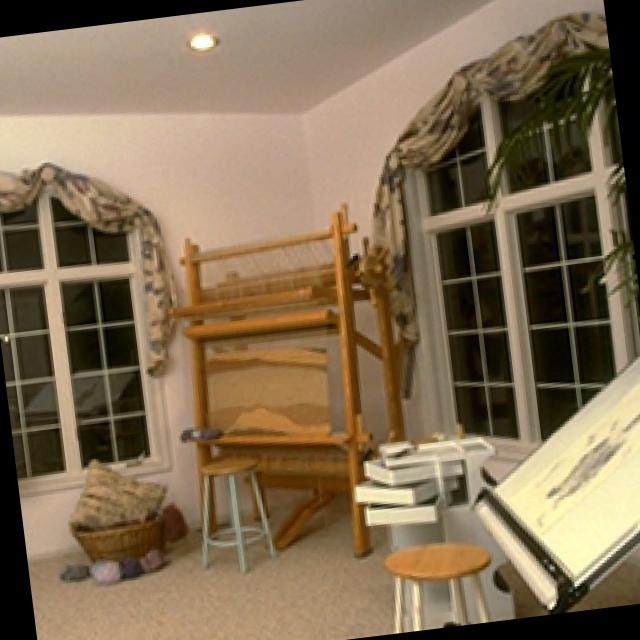2001: (407, 42, 640, 459), (0, 183, 151, 478)
bascket: (68, 514, 157, 569)
boxs: (353, 437, 487, 521)
curtain crop: (366, 9, 606, 394), (0, 160, 171, 374)
cushion occluded: (63, 454, 164, 526)
floor -X: (30, 490, 640, 640)
lamp crop: (185, 30, 213, 48)
loom: (162, 208, 404, 555)
stool crop: (200, 450, 273, 569)
stool occluded: (377, 540, 488, 631)
textil loom: (471, 354, 640, 607)
wall clock: (299, 0, 640, 566), (0, 113, 330, 557)
